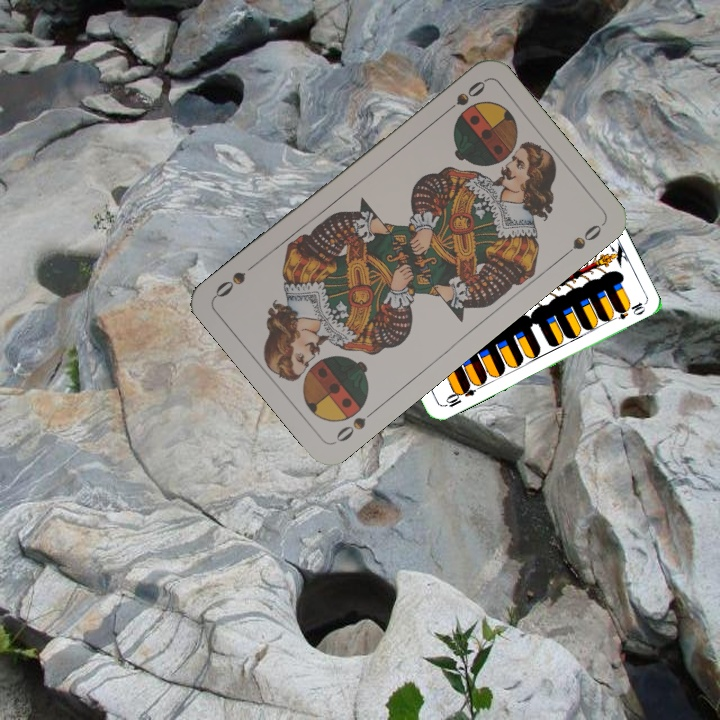E10: (439, 381, 477, 410)
SO: (438, 76, 489, 119), (331, 404, 380, 446)
